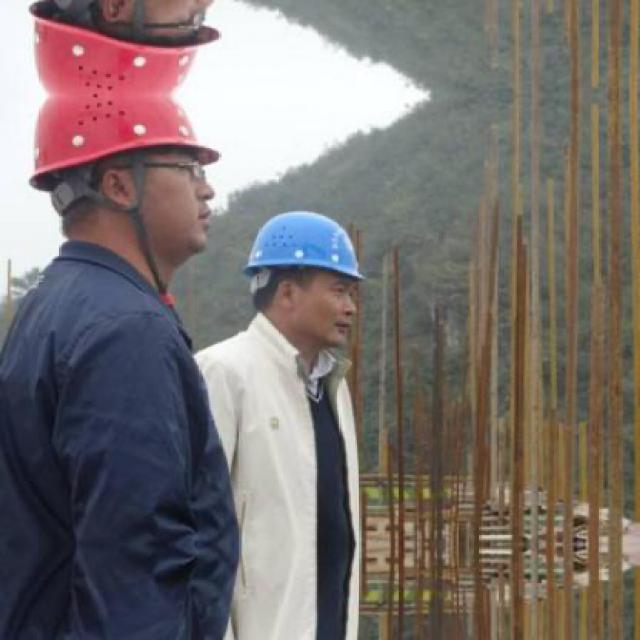helmet: (9, 96, 228, 282), (229, 194, 369, 369), (8, 0, 228, 97)
